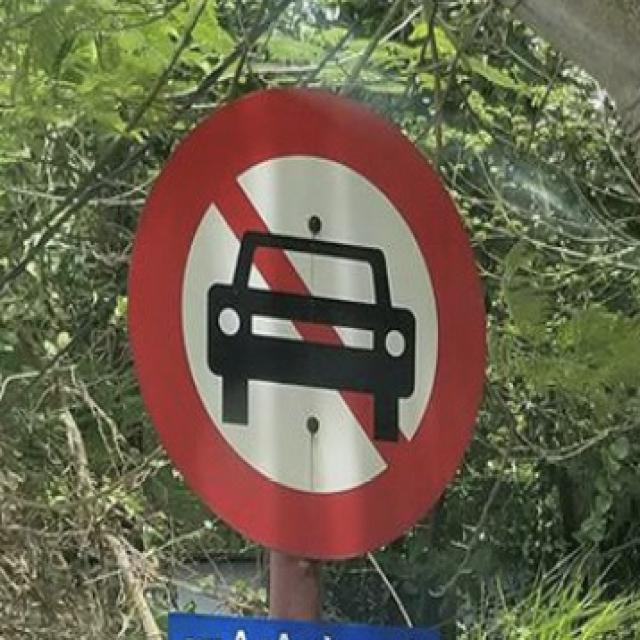103a-cam-oto: (127, 85, 485, 560)
